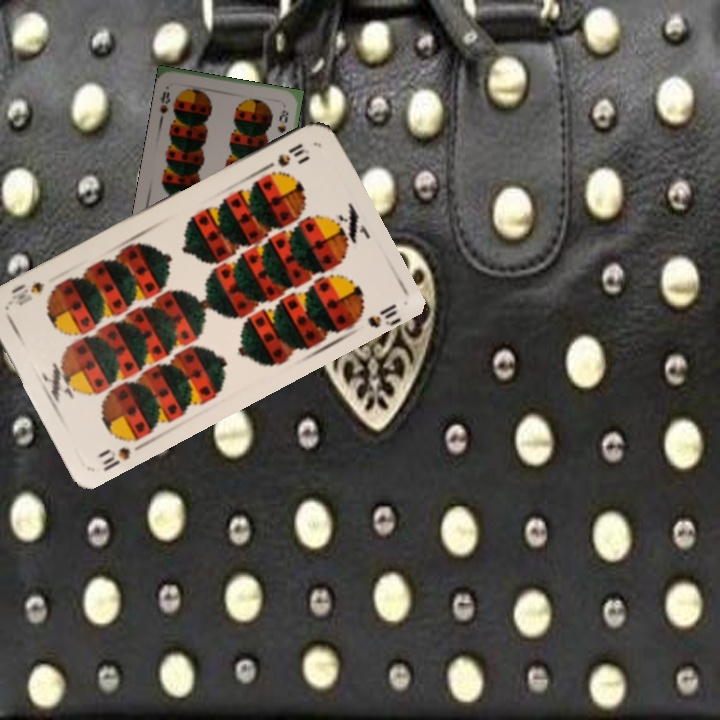S10: (260, 139, 312, 173), (93, 442, 133, 474)
S8: (156, 87, 173, 122)
